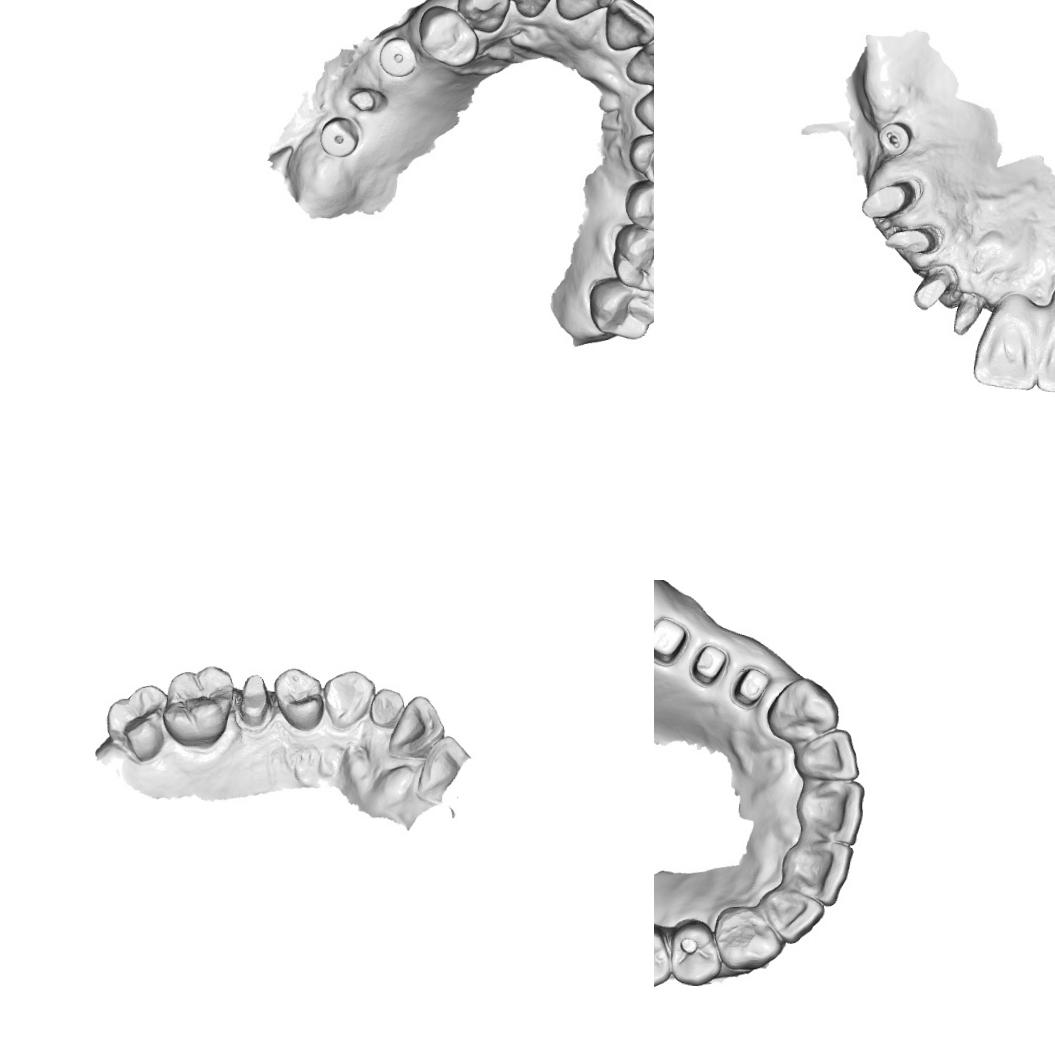abutment: (686, 632, 732, 692), (654, 606, 692, 671), (726, 655, 768, 710)
canine: (762, 670, 839, 745), (711, 900, 784, 976), (321, 668, 376, 732), (454, 0, 512, 34), (629, 79, 654, 140)
crown: (858, 175, 920, 224), (232, 670, 277, 736), (881, 221, 938, 262), (911, 266, 952, 312), (947, 285, 983, 336)
implant: (316, 114, 364, 161), (374, 36, 418, 81)
implant_minus: (874, 117, 912, 158)
incisor: (967, 293, 1042, 392), (794, 772, 870, 846), (778, 837, 852, 910), (786, 722, 863, 788), (386, 692, 448, 760), (758, 884, 826, 944), (600, 0, 654, 56), (1032, 278, 1055, 402), (622, 32, 654, 90), (551, 0, 620, 24), (368, 686, 404, 728), (504, 0, 559, 20)
molar: (160, 662, 235, 749), (102, 679, 173, 764), (583, 274, 654, 343), (607, 221, 654, 297)
premolar: (666, 912, 728, 990), (416, 3, 482, 68), (269, 664, 326, 732), (621, 180, 654, 233), (623, 131, 654, 186), (654, 920, 675, 991)
